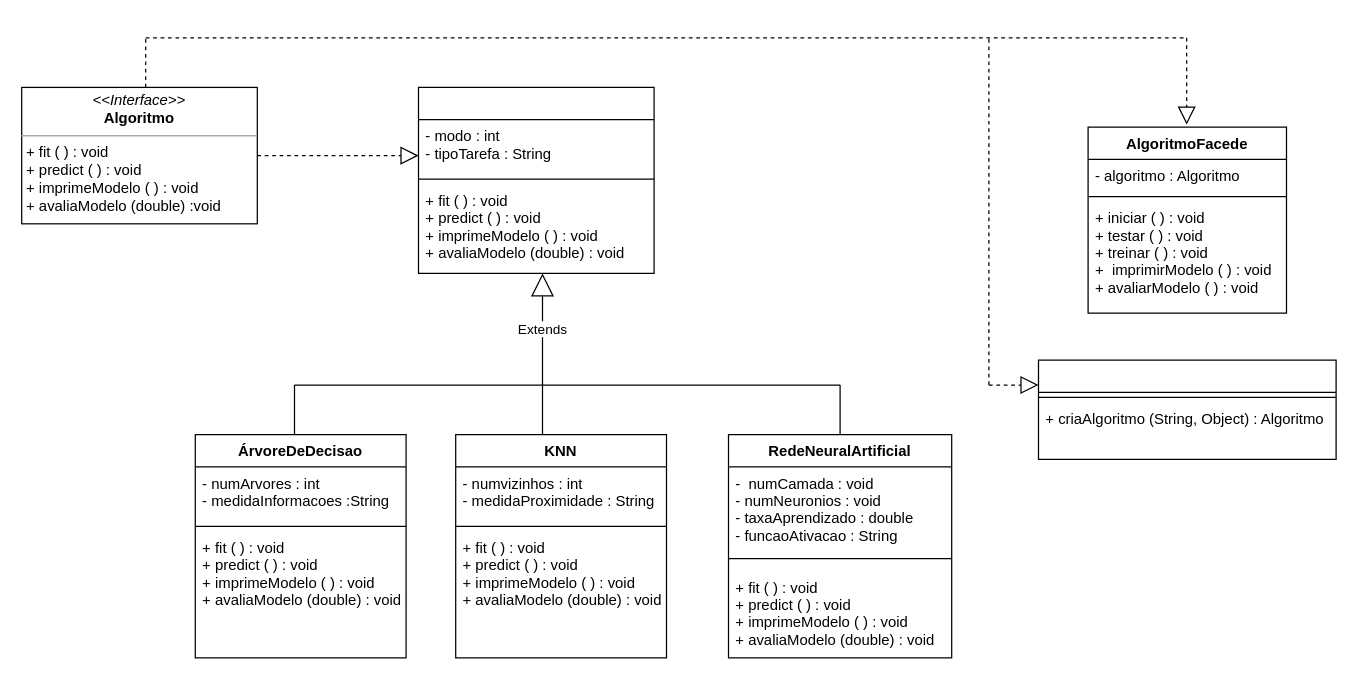
Some shapes in this 1358 by 683 pixel diagram are drawn without their labels. The box of each missing label's shape, as (x1, y1, x2, y2) in pixels:
FabricaAlgoritimos: (1037, 359, 1336, 459)
TipoAlgoritmo: (417, 86, 654, 273)
